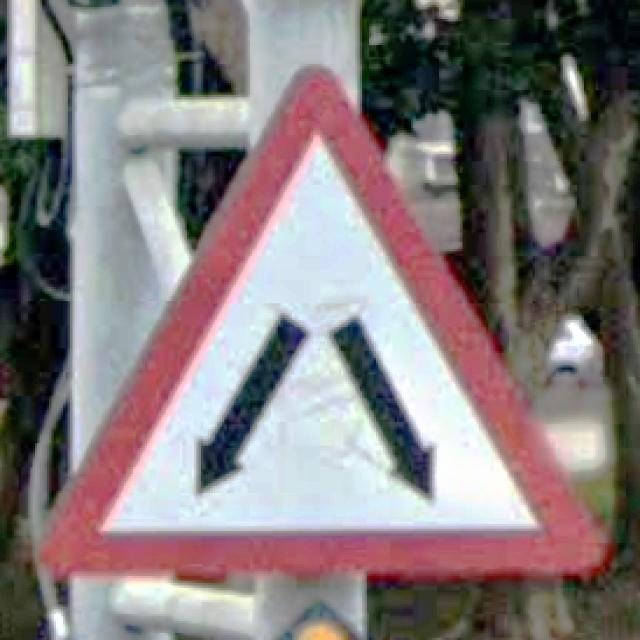diverge: (37, 66, 610, 581)
